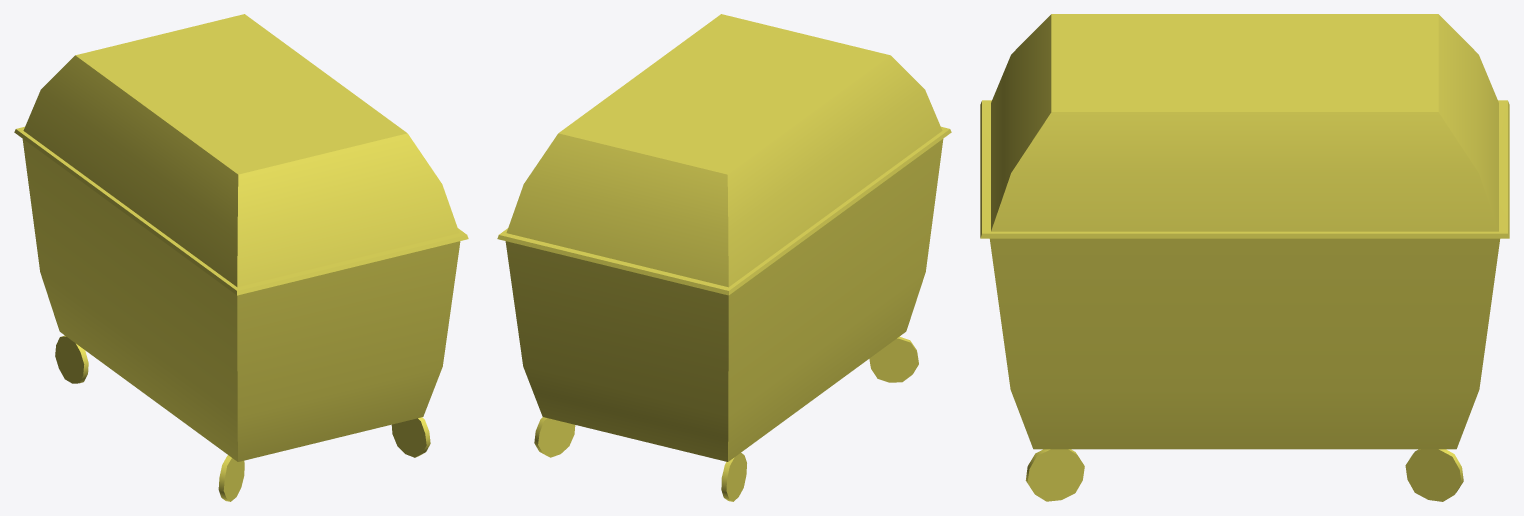
Rendered from Poubelle_2.fbx.
The picture shows the model from 3 angles, left to right: view 1: azimuth 30°, elevation 25°; view 2: azimuth 150°, elevation 25°; view 3: azimuth 270°, elevation 25°; orthographic projection. The views are drawn at different scales.
Visible parts, largest first — view 1: Poubelle2; view 2: Poubelle2; view 3: Poubelle2.
Boxes of the visible parts, <box> form: Poubelle2: <box>14,14,468,501</box>; Poubelle2: <box>497,14,951,501</box>; Poubelle2: <box>980,14,1509,501</box>.
Bounding box in the file's own units: 74.98 × 100 × 125.
